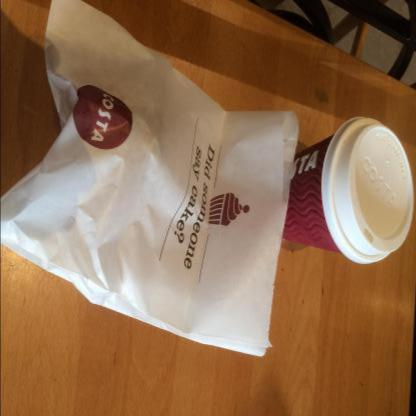Cup: (282, 117, 413, 265)
Lid: (322, 117, 414, 264)
Other litter: (0, 0, 299, 357)
